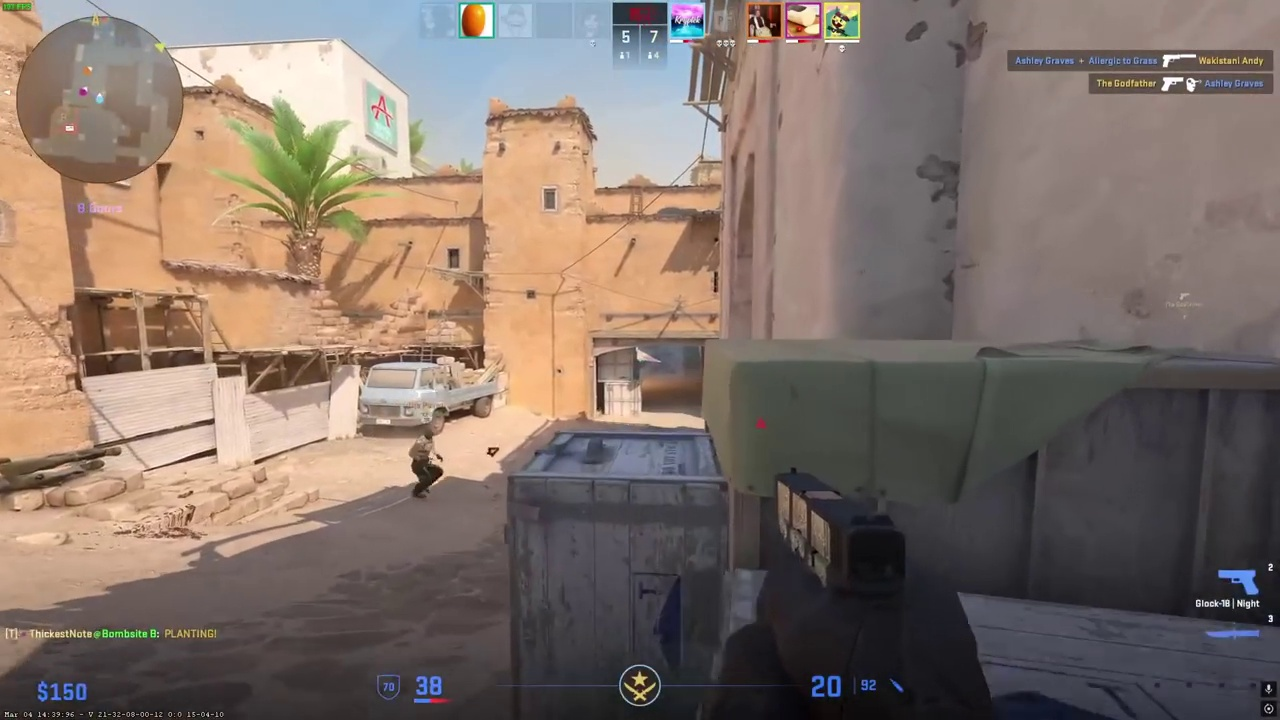Terrorist: (406, 430, 439, 498)
